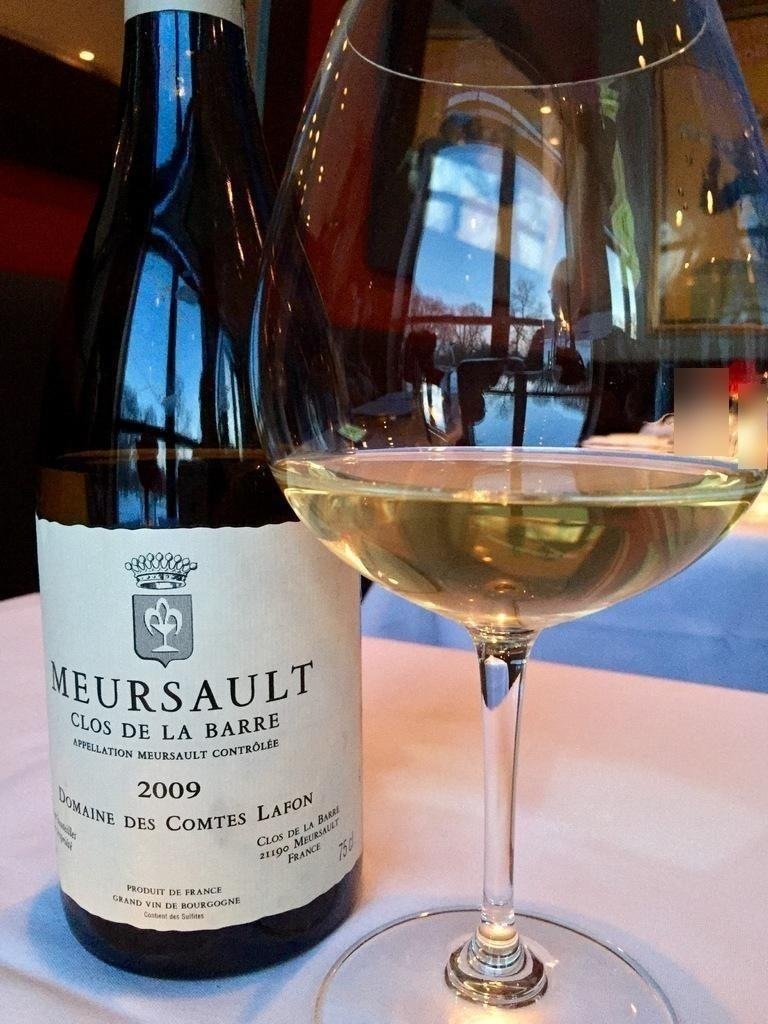bottle-glass: (28, 5, 378, 980)
glass-wine: (247, 1, 767, 1023)
